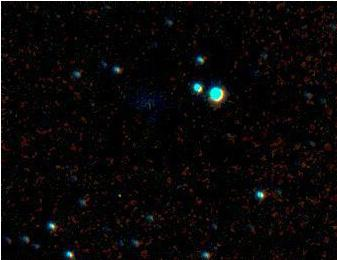star: (102, 179, 132, 209)
